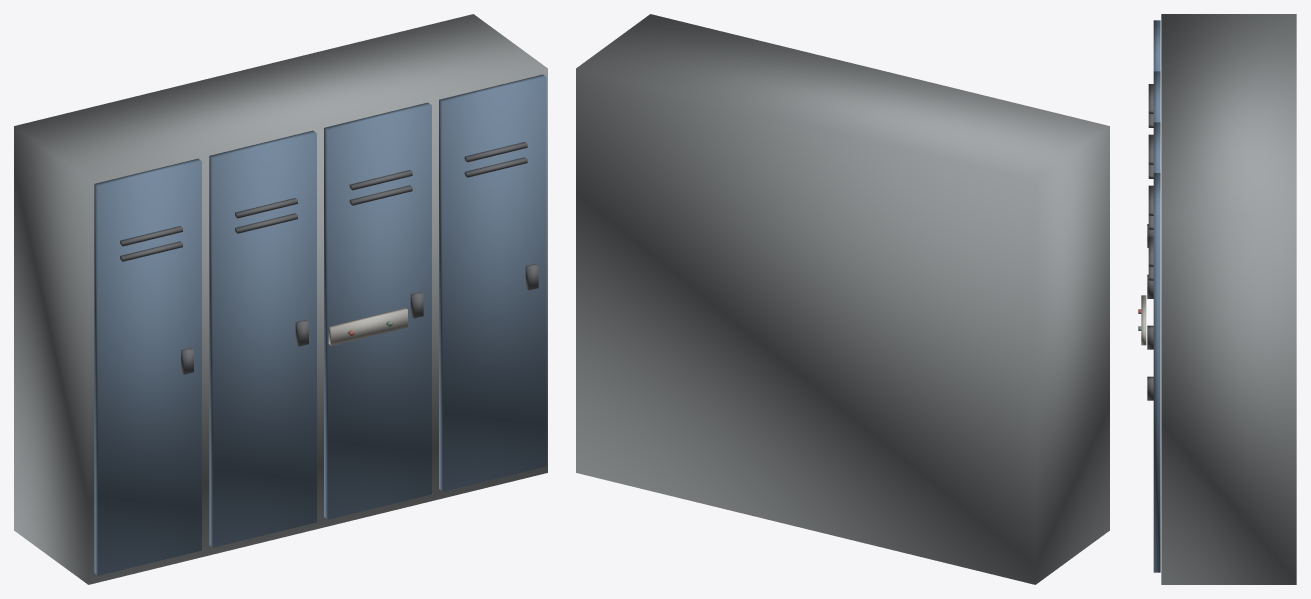
The model's file is locker_bank__squat.glb.
3 views of the same model, side by side, from view 1: azimuth 30°, elevation 25°; view 2: azimuth 150°, elevation 25°; view 3: azimuth 270°, elevation 25° (orthographic). The views are drawn at different scales.
Parts seen in each view (by area): view 1: world; view 2: world; view 3: world.
Part boxes in pixels (bbox=[...]): world: bbox=[14, 14, 547, 584]; world: bbox=[576, 14, 1109, 584]; world: bbox=[1138, 14, 1296, 584].
Size of the model in its own units: 1.85 by 1.55 by 0.6059.
